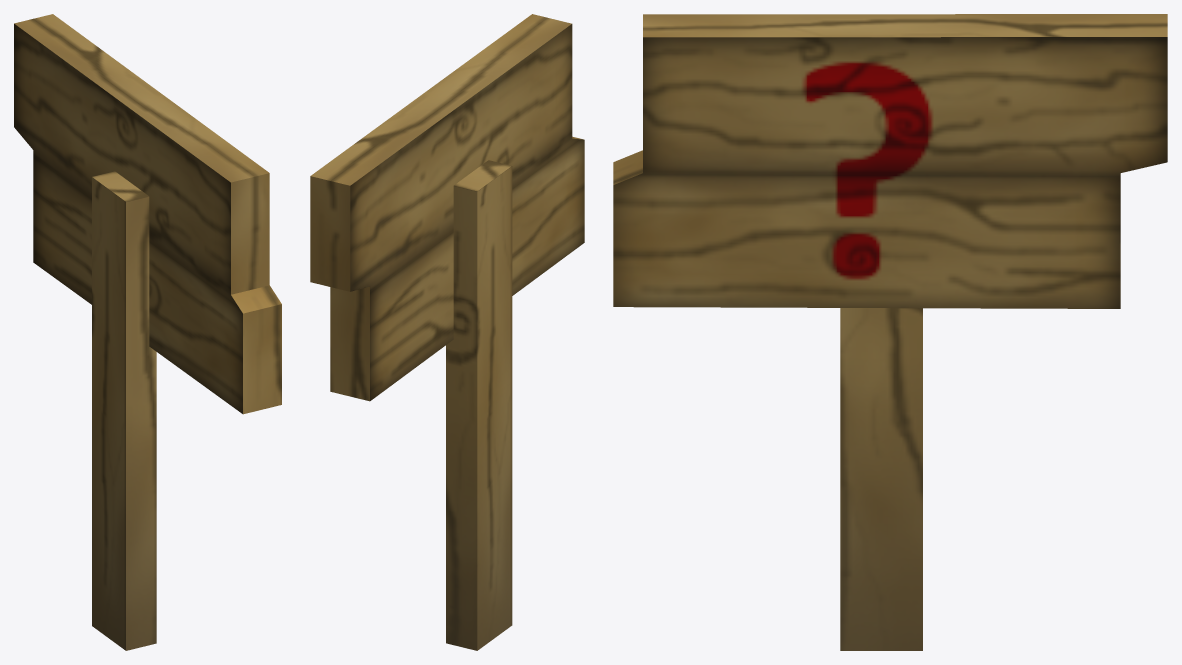
The model's file is znak_01.fbx.
3 renders of one model, left to right at view 1: azimuth 30°, elevation 25°; view 2: azimuth 150°, elevation 25°; view 3: azimuth 270°, elevation 25°, orthographic. The views are drawn at different scales.
Parts seen in each view (by area): view 1: Cube; view 2: Cube; view 3: Cube.
Part boxes in pixels (left/top/right/bottom): Cube: left=14, top=14, right=281, bottom=650; Cube: left=310, top=14, right=584, bottom=650; Cube: left=613, top=14, right=1167, bottom=650.
Size of the model in its own units: 32.86 by 265 by 210.
